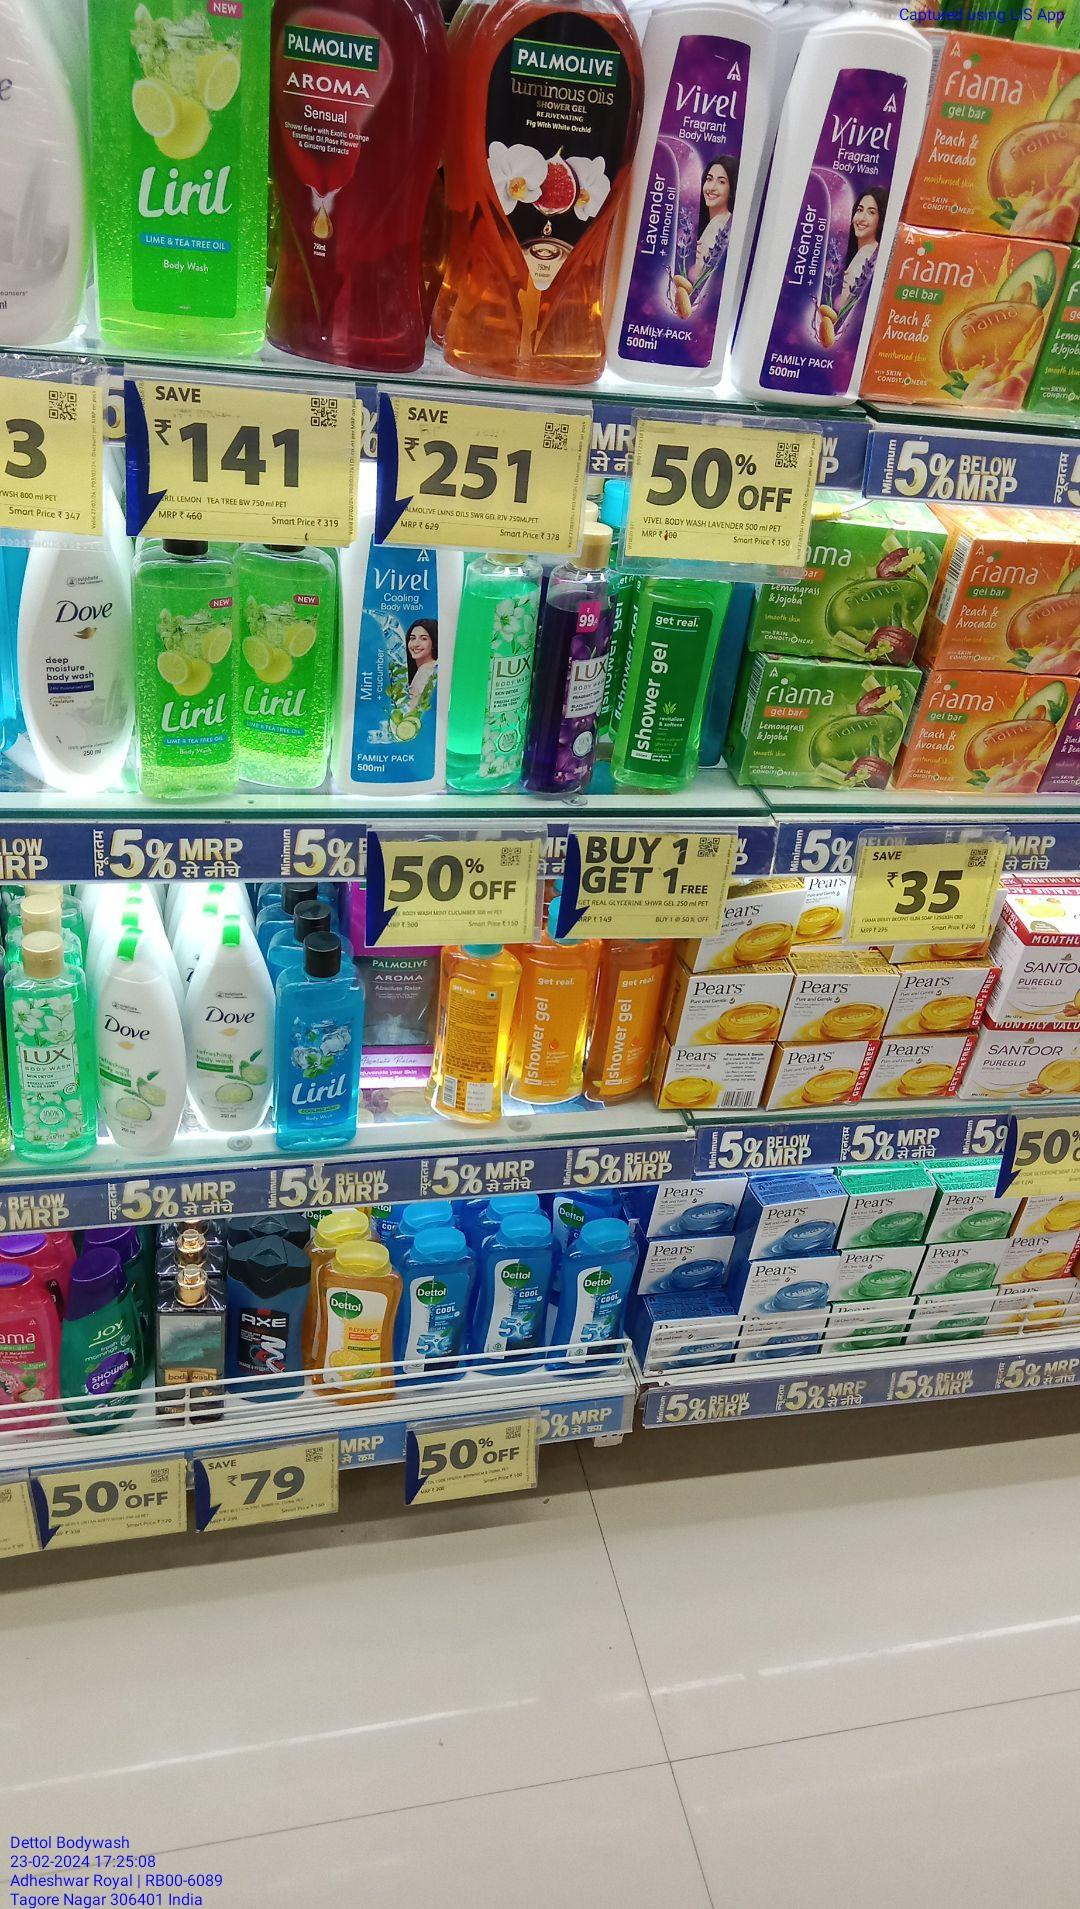Dettol_Bodywash_Cool: (560, 1231, 638, 1377), (480, 1223, 553, 1377), (401, 1235, 473, 1387)
Dettol_Bodywash_Refresh: (318, 1255, 397, 1408)
Dove_Refreshing_Body_Wash_250ML: (186, 927, 274, 1133), (100, 948, 185, 1158)
Joy_Shower_Gel_Mint_and_Eucalyptus_250ML: (62, 1272, 142, 1433)
Liril_Cooling_Mint_Body_Wash_250ML: (277, 943, 360, 1151)
Liril_Lime_and_Tea_Tree_Oil_Body_Wash_250ML: (131, 540, 239, 797), (240, 536, 332, 791)
Lux_Black_Orchid_Scent_and_Juniper_Oil_Body_Wash_245ML: (539, 535, 615, 793)
Lux_Body_Wash_Skin_Detox_Freesia_Scent_and_Alove_Vera_245ML: (447, 553, 536, 793), (7, 941, 98, 1162)
